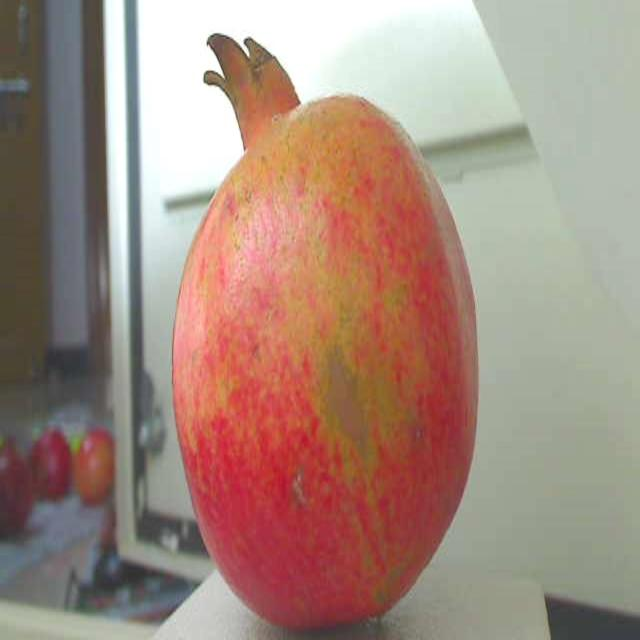pomegranate: (158, 11, 496, 640)
